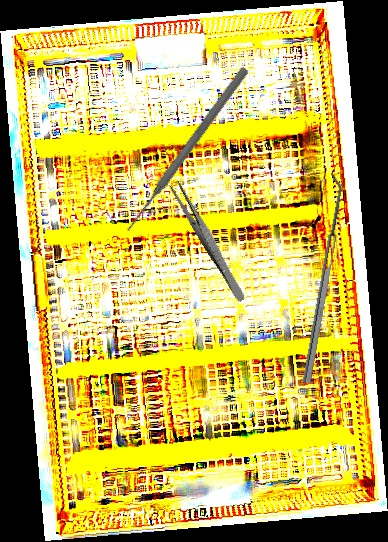Dressing Forceps: (167, 178, 250, 304)
Pusher: (121, 64, 251, 237)
Spatula Surgical: (294, 172, 348, 384)
